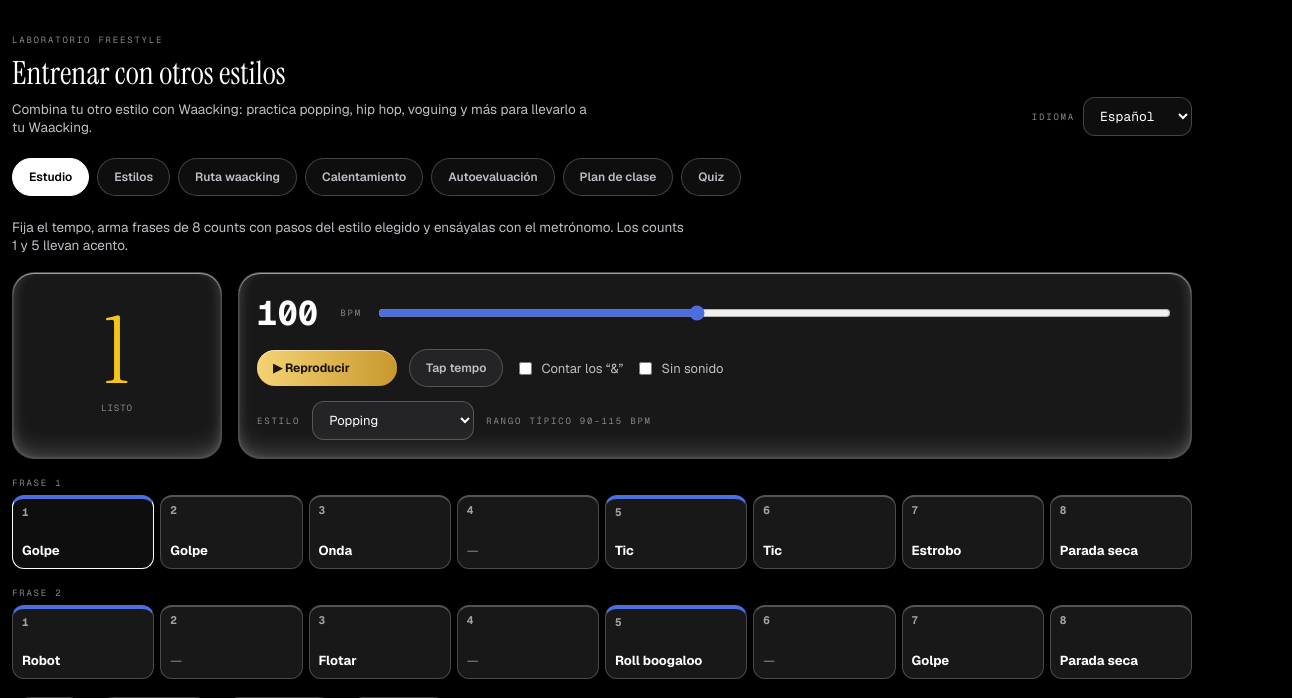
Test case: Entrenar con otros estilos › la autoevaluación guarda una evaluación en el historial
Click the tab "Autoevaluación".
click(493, 177)  # box [431,158,555,196]
(page scrolled)
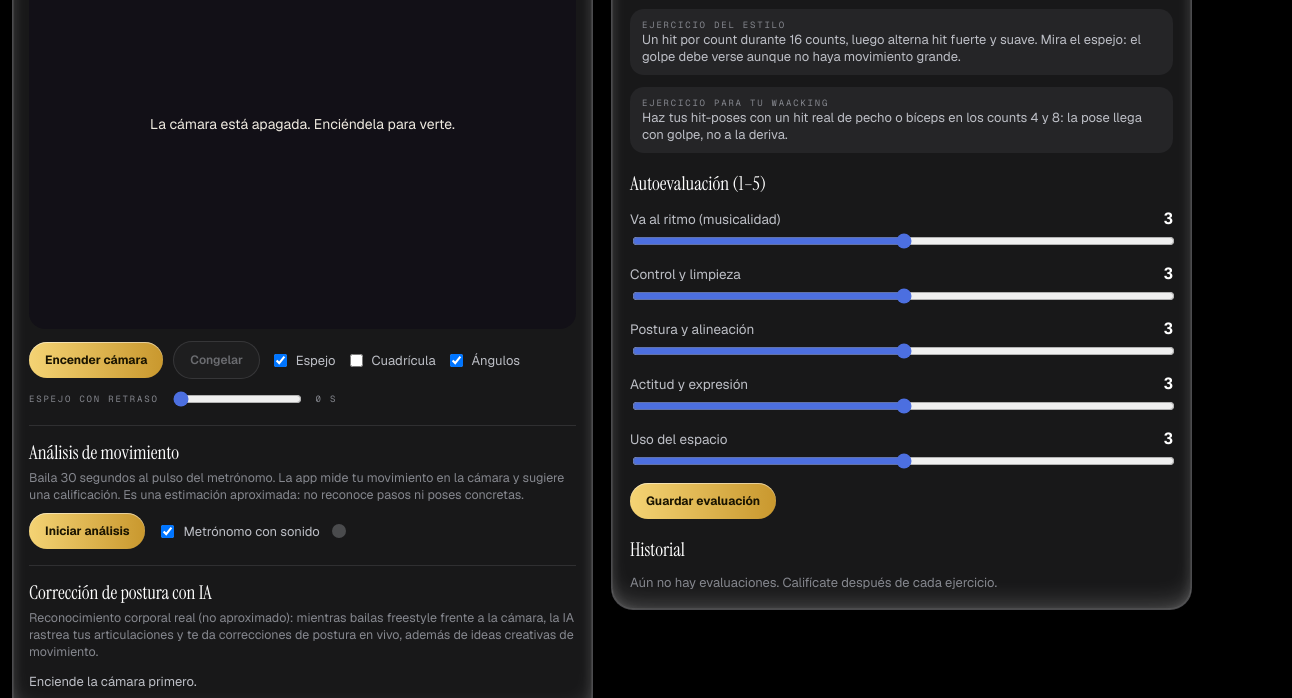
Click the button "Guardar evaluación".
click(703, 501)  # box [630,483,776,519]
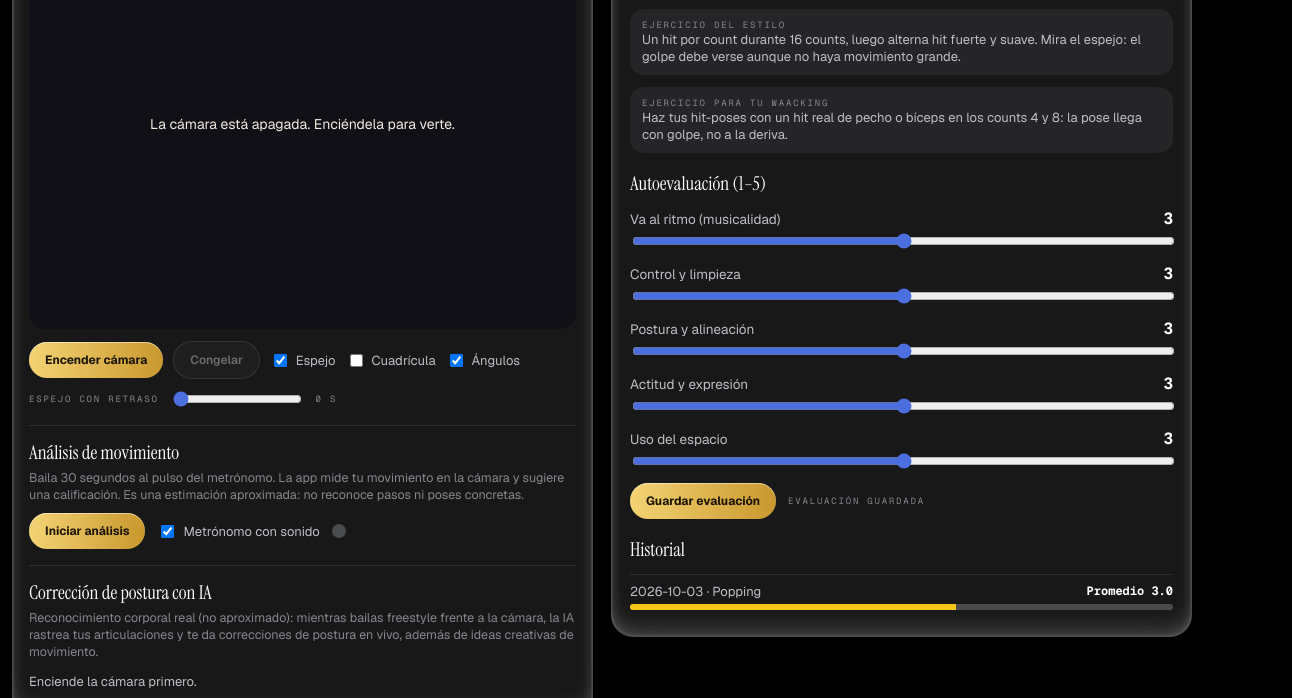
Check: the text "Promedio 3.0" is shown, box [1087,583,1173,600]
